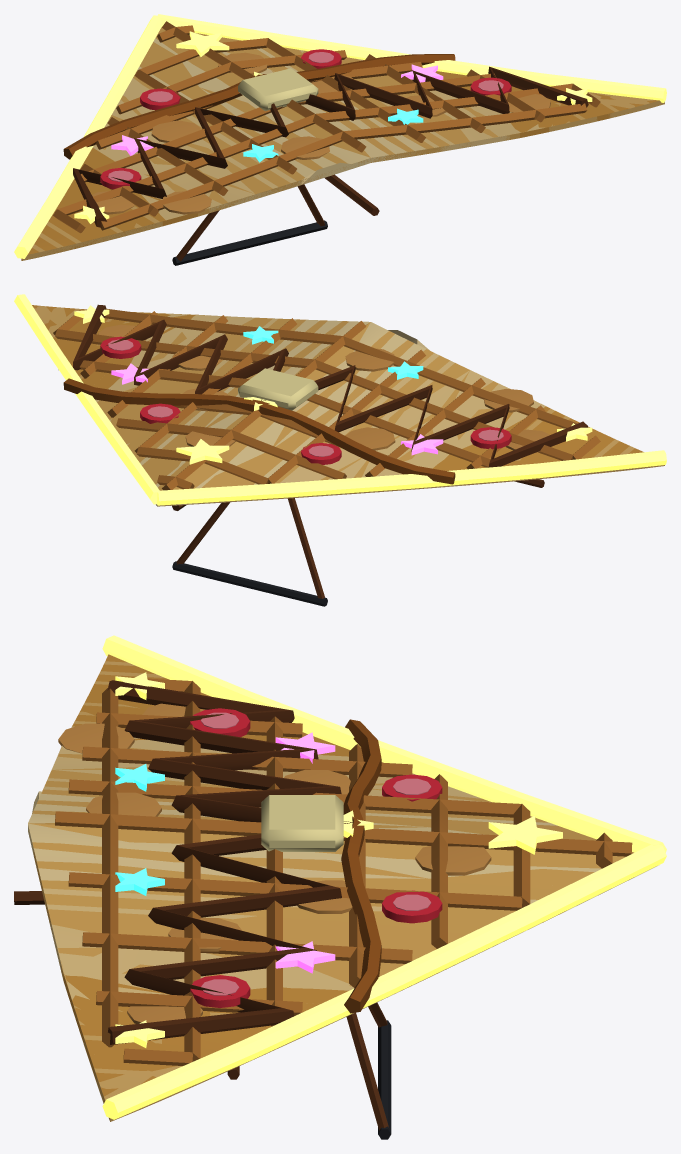
Rendered from 2026-11-22_deltaplane.glb.
3 renders of one model, top to bottom at view 1: azimuth 30°, elevation 25°; view 2: azimuth 150°, elevation 25°; view 3: azimuth 270°, elevation 25°, orthographic. The views are drawn at different scales.
Visible parts, largest first — view 1: deltaplane_crepe_etoilee, deltaplane_gaufre_volante; view 2: deltaplane_crepe_etoilee, deltaplane_gaufre_volante; view 3: deltaplane_crepe_etoilee, deltaplane_gaufre_volante.
Part boxes in pixels (x1,y1,x2,y2): deltaplane_crepe_etoilee: (14, 14, 666, 265); deltaplane_gaufre_volante: (21, 21, 659, 260); deltaplane_crepe_etoilee: (14, 294, 666, 606); deltaplane_gaufre_volante: (32, 305, 662, 506); deltaplane_crepe_etoilee: (14, 635, 666, 1139); deltaplane_gaufre_volante: (28, 654, 633, 1121).
Bounding box in the file's own units: 4.06 × 1.1 × 2.38.
